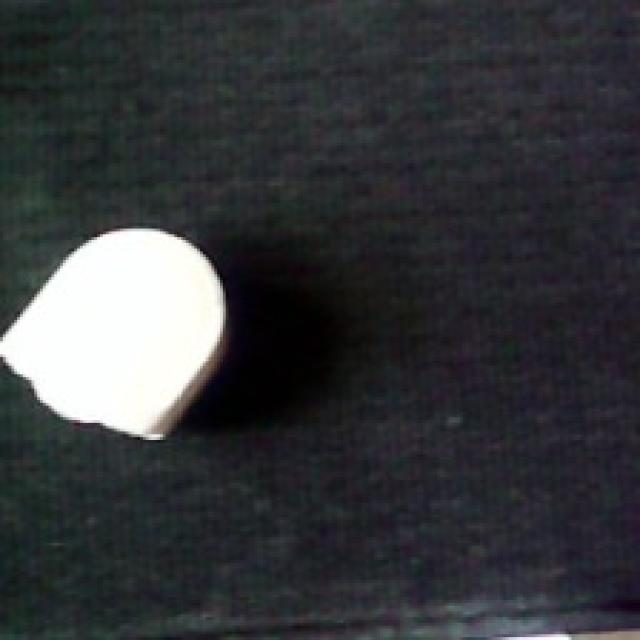defected: (0, 220, 240, 446)
